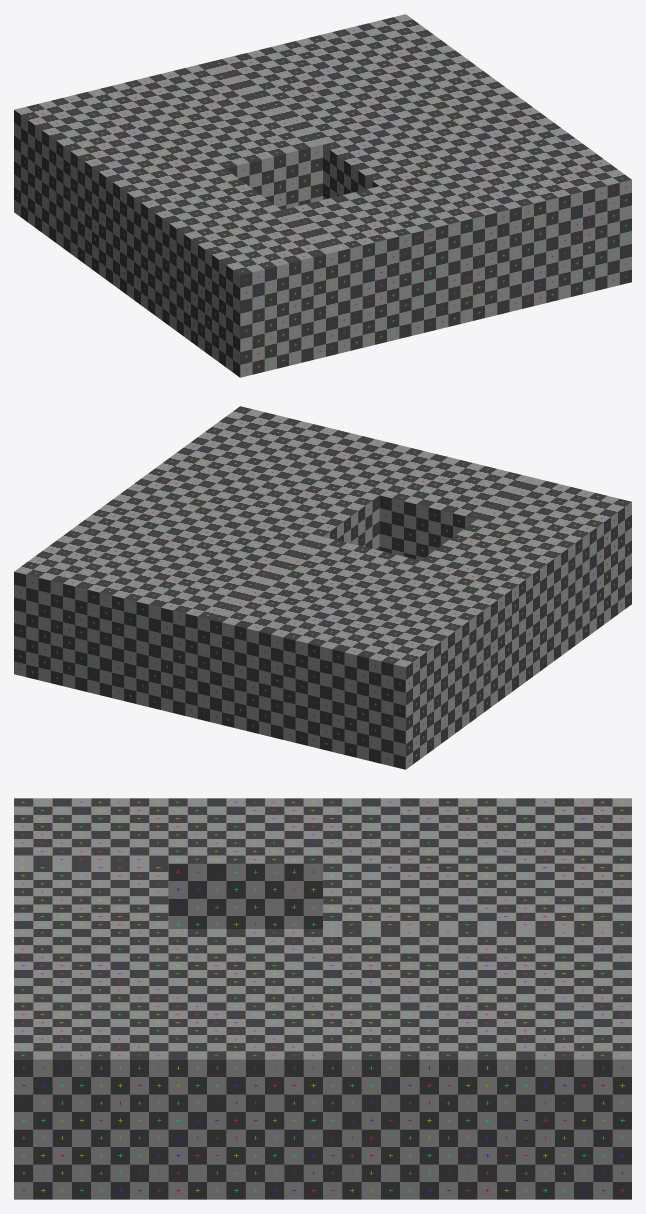
The model's file is TestChamber.fbx.
3 views of the same model, one above another, from view 1: azimuth 30°, elevation 25°; view 2: azimuth 150°, elevation 25°; view 3: azimuth 270°, elevation 25° (orthographic). The views are drawn at different scales.
Visible parts, largest first — view 1: Cube; view 2: Cube; view 3: Cube.
Part boxes in pixels (x1=…): Cube: x1=14, y1=14, x2=631, y2=377; Cube: x1=14, y1=406, x2=631, y2=769; Cube: x1=14, y1=798, x2=631, y2=1199.
Bounding box in the file's own units: 80 × 20 × 80.
Materials: 1 (1 with a texture image).
